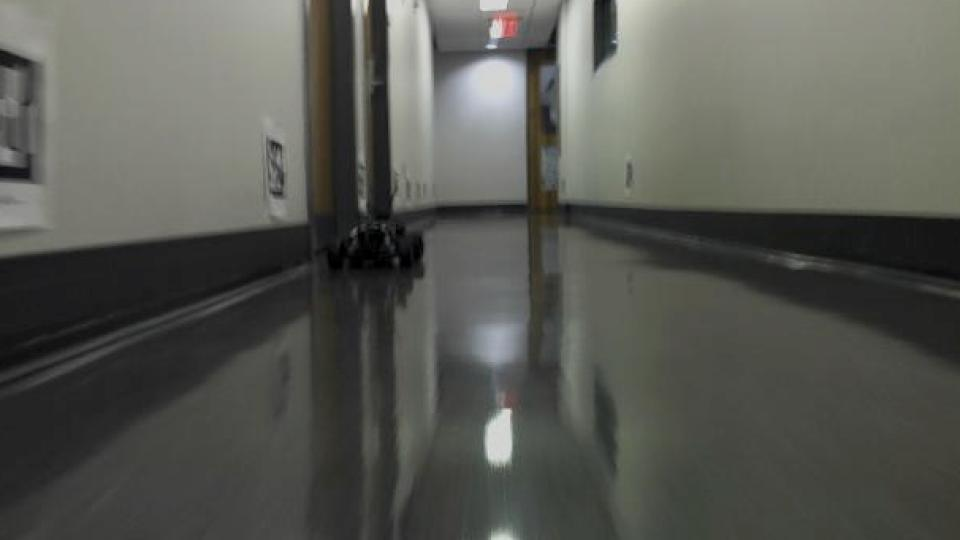car: (323, 214, 429, 276)
